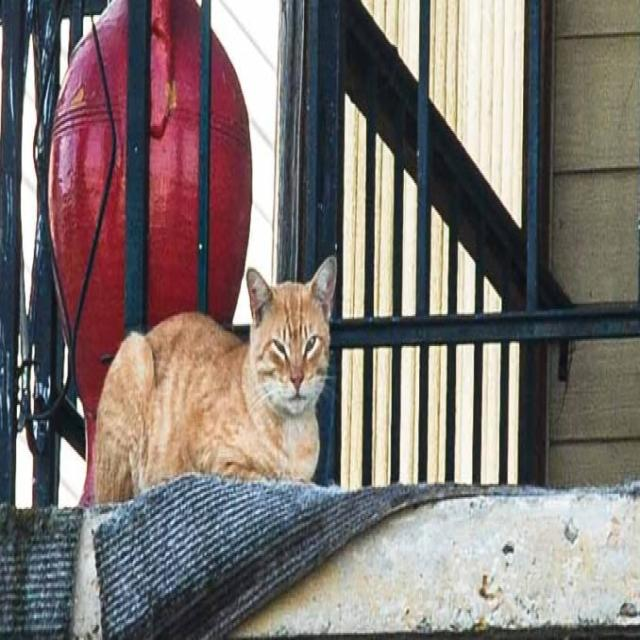cat: (95, 258, 336, 502)
